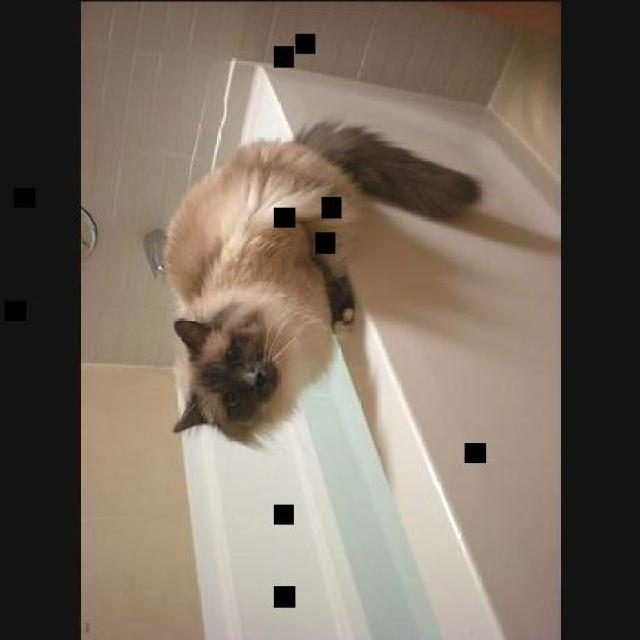unauthorized: (162, 117, 483, 451)
